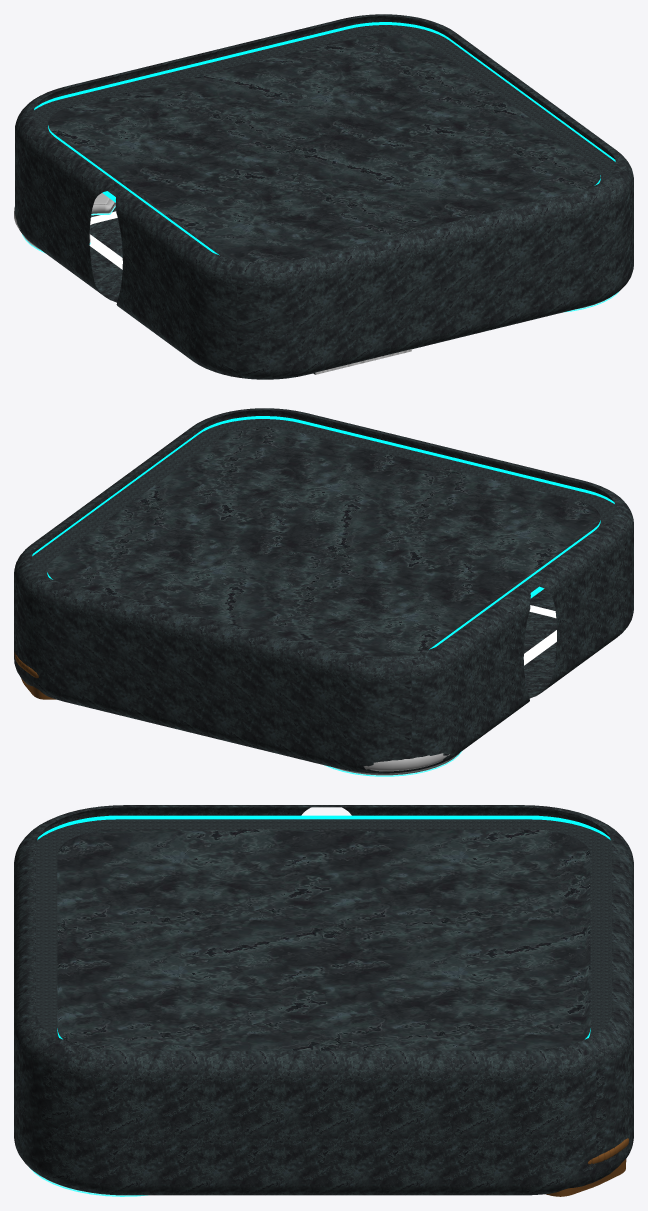
Rendered from viproom.glb.
3 renders of one model, top to bottom at view 1: azimuth 30°, elevation 25°; view 2: azimuth 150°, elevation 25°; view 3: azimuth 270°, elevation 25°, orthographic. The views are drawn at different scales.
Visible parts, largest first — view 1: Cube.009, Cube.008, Cube.188, couch cushion 2.002; view 2: Cube.009, Cube.008, couch cushion 2.002, Cube.188; view 3: Cube.009, Cube.008, chesterfield couch.
Part boxes in pixels (x1,y1,x2,y2): Cube.009: (33,22,615,262); Cube.008: (15,14,633,379); Cube.188: (89,211,122,269); couch cushion 2.002: (14,193,115,253); Cube.009: (32,416,615,656); Cube.008: (14,408,633,773); couch cushion 2.002: (324,751,461,776); Cube.188: (523,605,556,665); Cube.009: (36,815,611,1050); Cube.008: (14,805,633,1195); chesterfield couch: (546,1138,629,1196).
Size of the model in its own units: 18.89 by 4.81 by 18.89.
15 materials, 3 textured.
